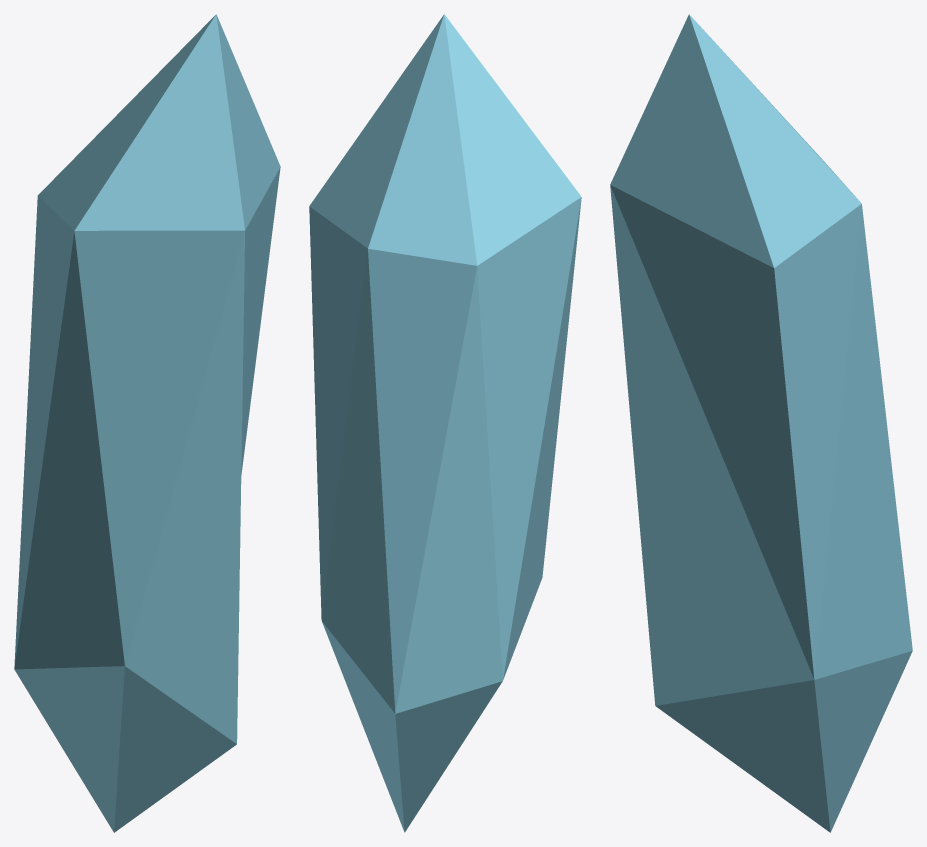
The model's file is IceBullet.fbx.
3 views of the same model, side by side, from view 1: azimuth 30°, elevation 25°; view 2: azimuth 150°, elevation 25°; view 3: azimuth 270°, elevation 25° (orthographic). The views are drawn at different scales.
Parts seen in each view (by area): view 1: Cube; view 2: Cube; view 3: Cube.
Part boxes in pixels (left/top/right/bottom): Cube: left=14, top=14, right=280, bottom=832; Cube: left=309, top=14, right=581, bottom=832; Cube: left=610, top=14, right=912, bottom=832.
Size of the model in its own units: 117 by 378 by 124.
